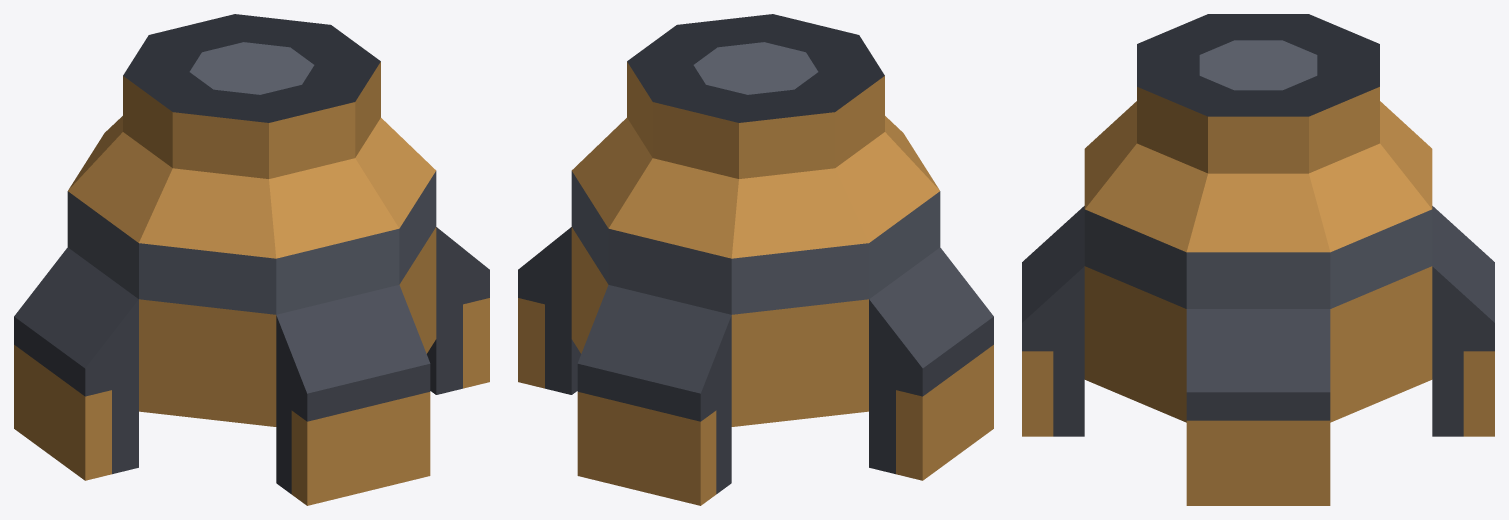
Rendered from station_tank.glb.
3 renders of one model, left to right at view 1: azimuth 30°, elevation 25°; view 2: azimuth 150°, elevation 25°; view 3: azimuth 270°, elevation 25°, orthographic.
Parts seen in each view (by area): view 1: body; view 2: body; view 3: body.
Part boxes in pixels (<box>): body: <box>14,14,489,505</box>; body: <box>518,14,993,505</box>; body: <box>1022,14,1494,505</box>.
Bounding box in the file's own units: 0.7543 × 0.6 × 0.7543.
